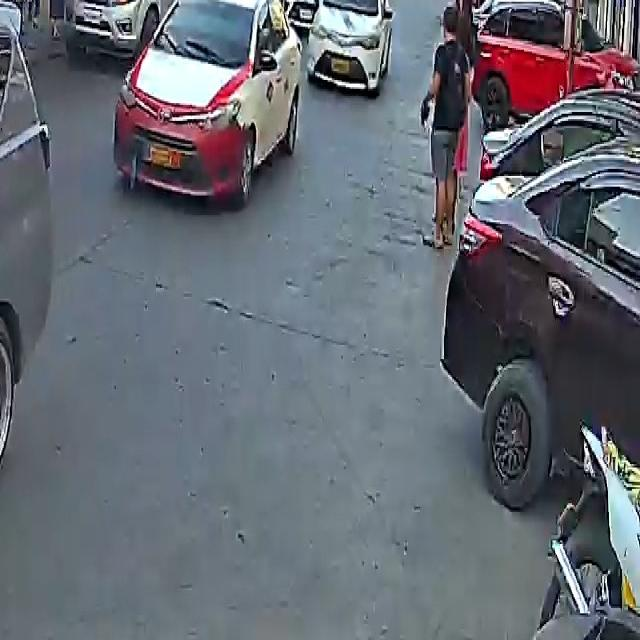car: (443, 87, 640, 533), (0, 0, 87, 635), (111, 0, 308, 212), (472, 0, 638, 130), (303, 0, 395, 94), (62, 0, 198, 60)
